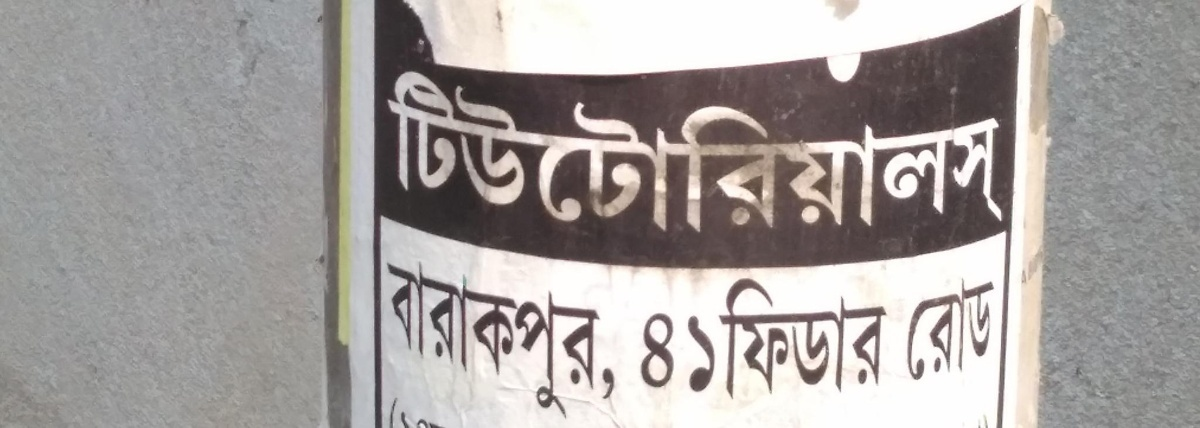text: (401, 69, 416, 246), (417, 69, 432, 246), (433, 69, 448, 246), (449, 69, 464, 246), (465, 69, 480, 246), (481, 69, 496, 246), (497, 69, 512, 246), (513, 69, 528, 246), (529, 69, 544, 246), (545, 69, 560, 246), (561, 69, 576, 246), (577, 69, 592, 246), (593, 69, 608, 246), (609, 69, 624, 246), (625, 69, 640, 246), (641, 69, 656, 246), (657, 69, 672, 246), (673, 69, 688, 246), (689, 69, 704, 246), (705, 69, 720, 246), (721, 69, 736, 246), (737, 69, 752, 246), (753, 69, 768, 246), (769, 69, 784, 246), (785, 69, 800, 246), (801, 69, 816, 246), (817, 69, 832, 246), (833, 69, 848, 246), (849, 69, 864, 246), (865, 69, 880, 246), (881, 69, 896, 246), (897, 69, 912, 246), (913, 69, 928, 246), (929, 69, 944, 246), (945, 69, 960, 246), (961, 69, 976, 246), (977, 69, 992, 246), (993, 69, 1008, 246), (385, 256, 400, 428), (401, 256, 416, 428), (417, 256, 432, 428), (433, 256, 448, 428), (449, 256, 464, 428), (465, 256, 480, 428), (481, 256, 496, 428), (497, 256, 512, 428), (513, 256, 528, 428), (529, 256, 544, 428), (545, 256, 560, 428), (561, 256, 576, 428), (577, 256, 592, 428), (593, 256, 608, 428), (387, 69, 400, 246), (721, 271, 736, 405), (737, 271, 752, 405), (753, 271, 768, 405), (769, 271, 784, 405), (785, 271, 800, 405), (801, 271, 816, 405), (817, 271, 832, 405), (833, 271, 848, 405), (849, 271, 864, 405), (865, 271, 880, 405), (609, 256, 620, 428), (913, 272, 928, 395), (929, 272, 944, 395), (945, 272, 960, 395), (961, 272, 976, 395), (977, 272, 992, 395), (1009, 69, 1018, 246), (641, 304, 656, 410), (657, 304, 672, 410), (673, 304, 688, 410), (689, 304, 704, 410), (705, 304, 718, 410), (901, 272, 912, 395), (881, 271, 891, 405), (993, 272, 999, 395), (433, 396, 449, 427), (401, 396, 416, 427), (417, 396, 432, 427), (386, 396, 400, 427), (637, 304, 640, 410), (383, 256, 384, 428), (719, 271, 720, 405)
